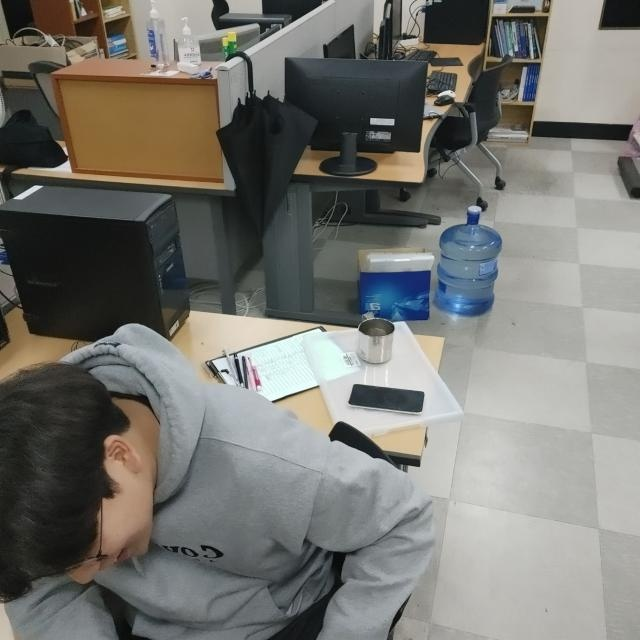cup: (353, 315, 395, 365)
phone: (346, 383, 426, 416)
